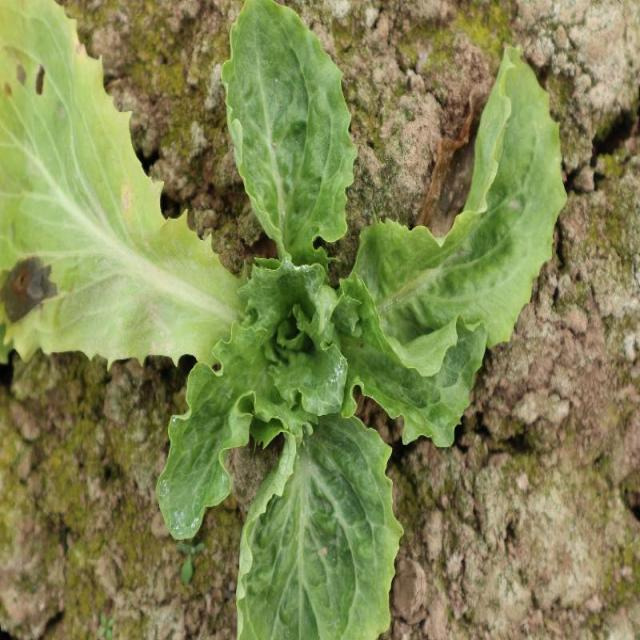crop: (155, 0, 566, 640)
